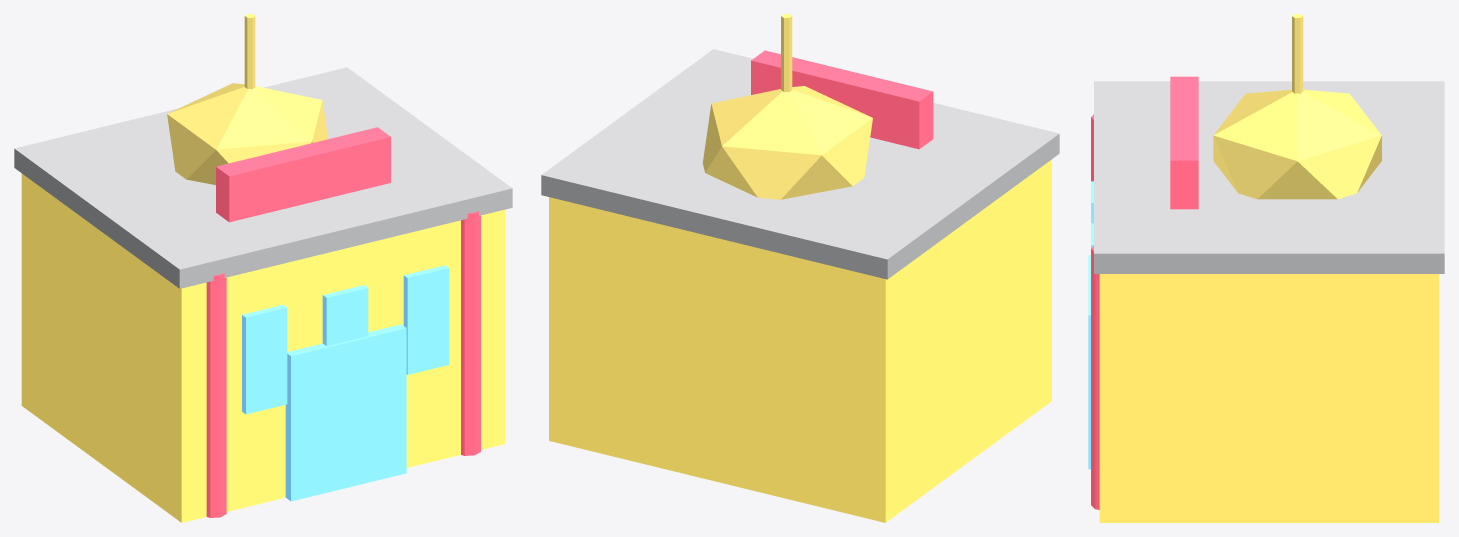
The model's file is casino.glb.
The picture shows the model from 3 angles, left to right: view 1: azimuth 30°, elevation 25°; view 2: azimuth 150°, elevation 25°; view 3: azimuth 270°, elevation 25°; orthographic projection. The views are drawn at different scales.
Parts seen in each view (by area): view 1: casino; view 2: casino; view 3: casino.
Boxes of the visible parts, left/top/right/bottom form: casino: left=14, top=14, right=512, bottom=522; casino: left=541, top=14, right=1059, bottom=522; casino: left=1088, top=14, right=1444, bottom=522.
Size of the model in its own units: 1.44 by 1.65 by 1.26.
